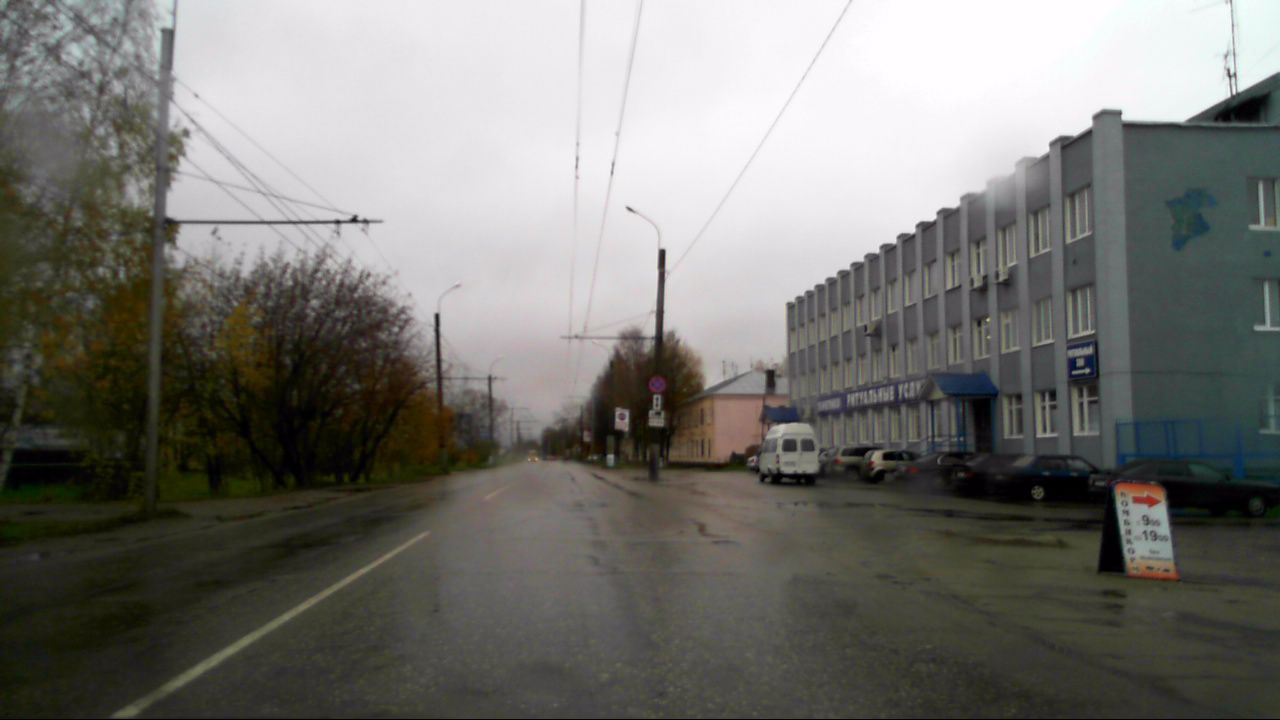No Parking: (648, 374, 667, 394)
